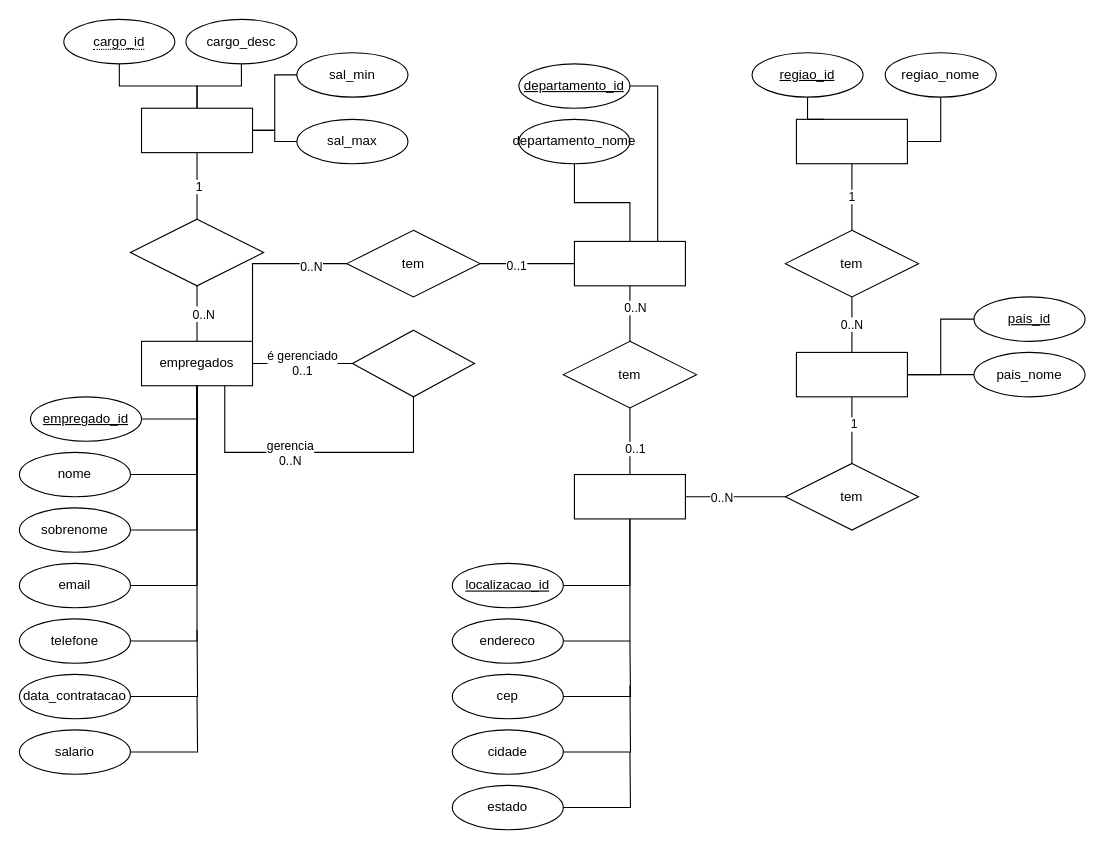
Some shapes in this 1104 by 849 pixel diagram are drawn without their labels. Each missing label, with the box of its shape:
cargos: (140, 107, 253, 153)
departamentos: (573, 240, 685, 286)
está associado: (129, 218, 264, 286)
gerencia: (351, 329, 475, 397)
localizacoes: (573, 473, 685, 519)
paises: (795, 351, 907, 397)
regioes: (795, 118, 907, 164)
